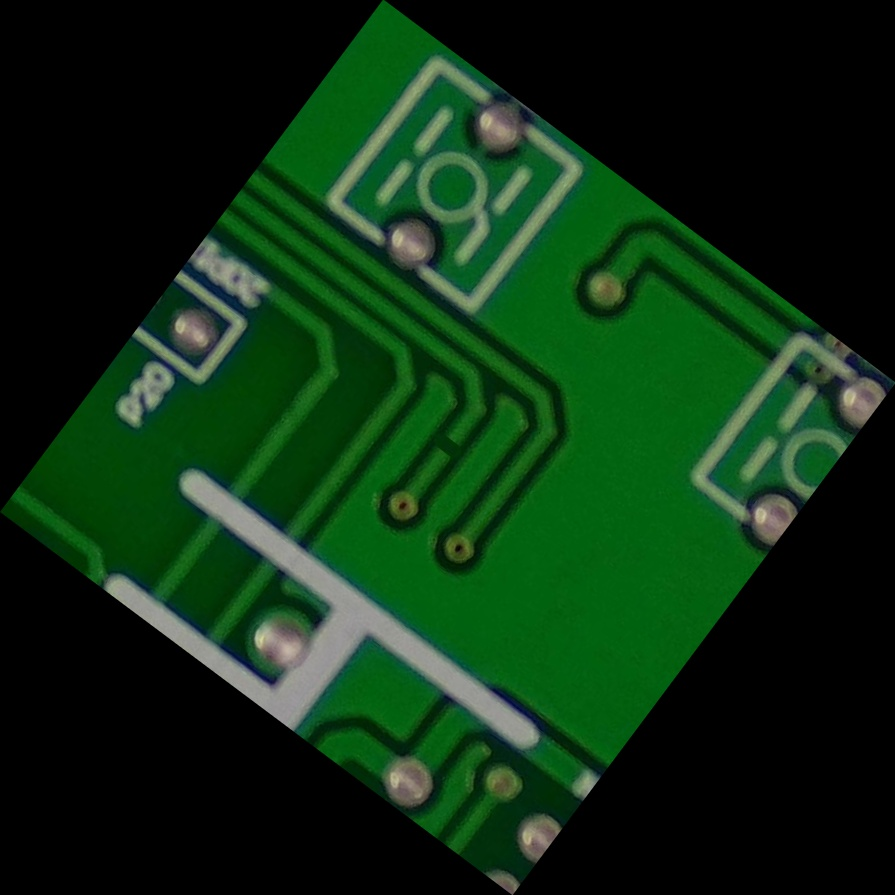open_circuit: (425, 425, 470, 472)
